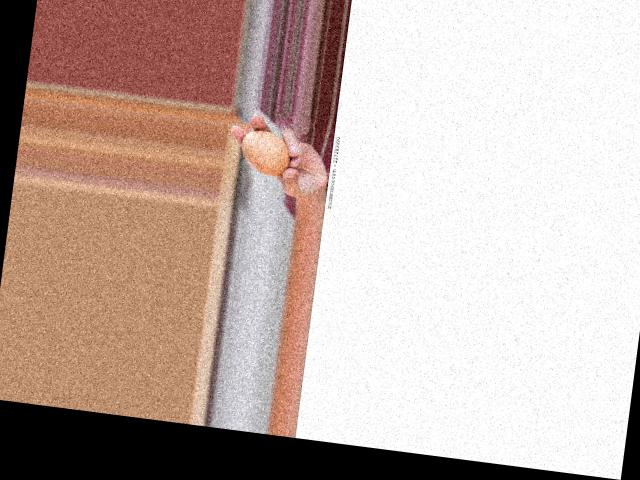egg: (238, 127, 292, 176)
